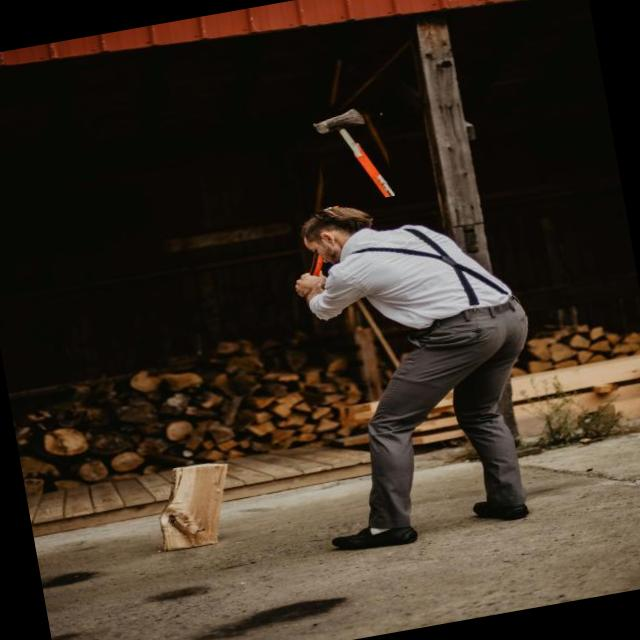Axe: (314, 109, 394, 197)
